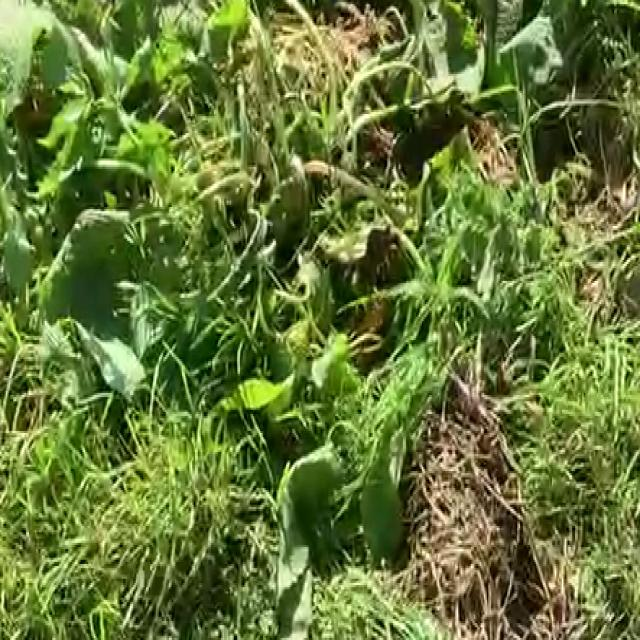organic waste: (32, 47, 286, 380), (174, 207, 424, 543), (396, 0, 640, 196)
